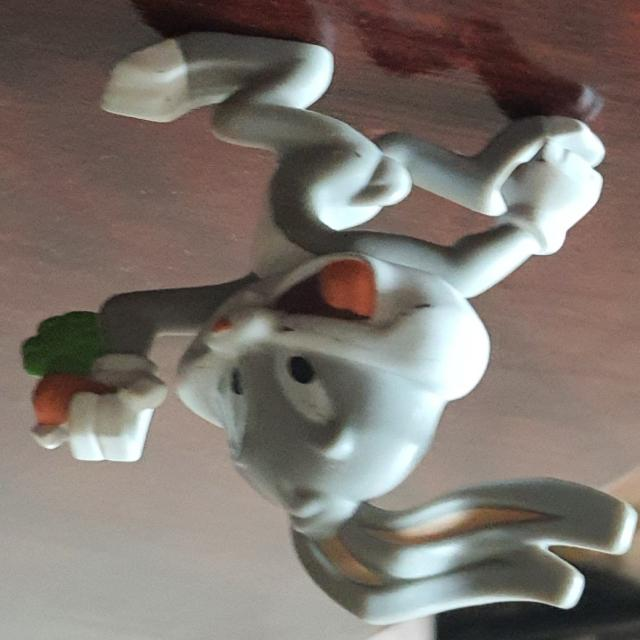Rabbit: (22, 31, 638, 626)
